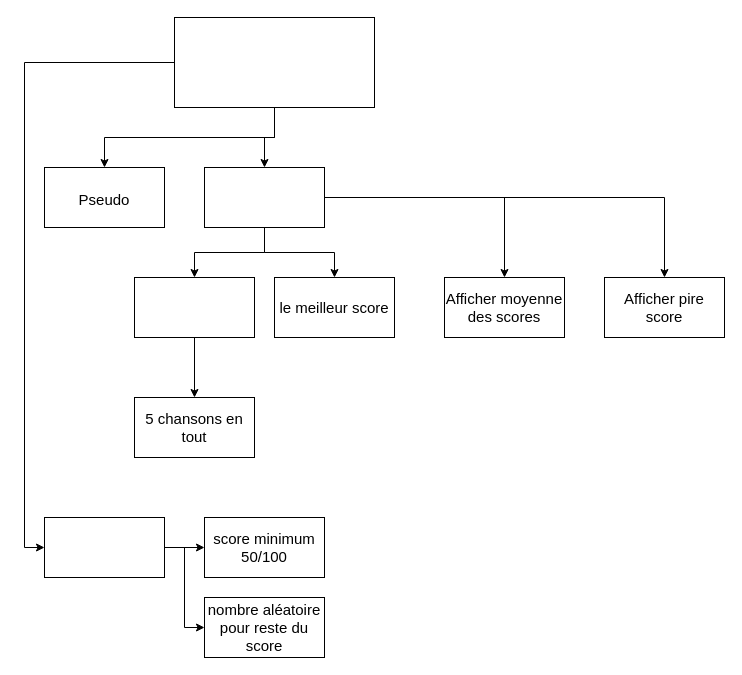
Image size: 742x675. Some labels were removed from this diagram. The box of each missing label's shape, as (x1, y1, x2, y2) in pixels:
1 par Chanson: (134, 276, 254, 338)
Classe Player: (174, 16, 374, 108)
Jouer: (44, 516, 164, 578)
Scores: (204, 166, 324, 228)
